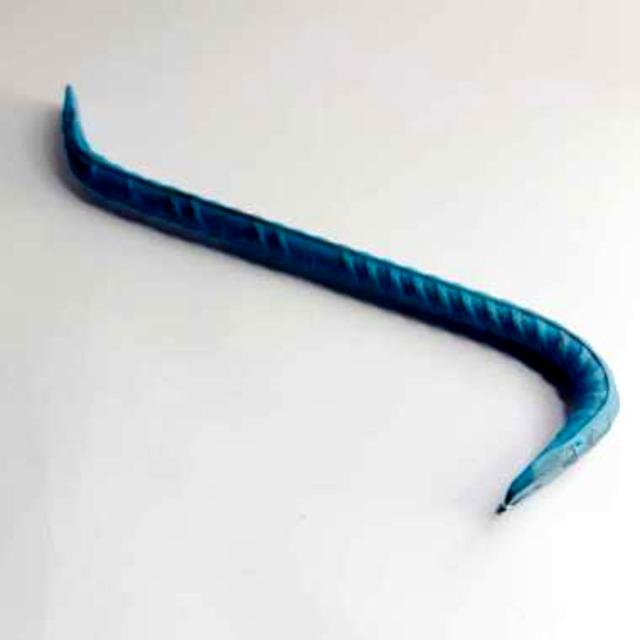crow bar: (45, 70, 623, 530)
